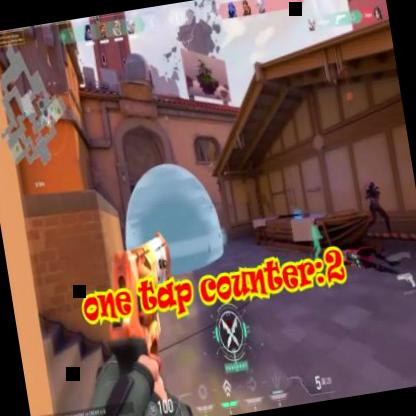enemy: (358, 176, 390, 236)
enemy_head: (368, 178, 375, 187)
